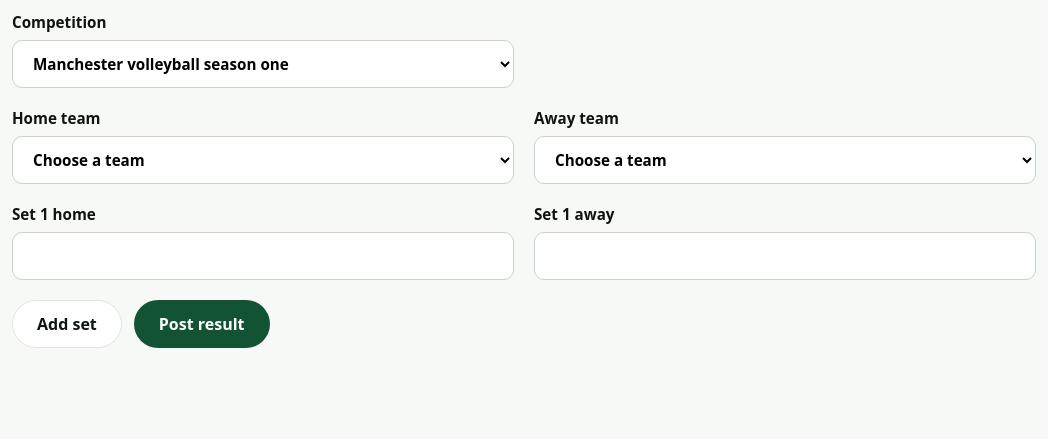
VolleyballResultForm › reports a tied set without clearing the entered scores
Select "Spike" in the dropdown labelled "Home team". click: point(263, 160)
box: top-left (12, 136), bottom-right (514, 184)
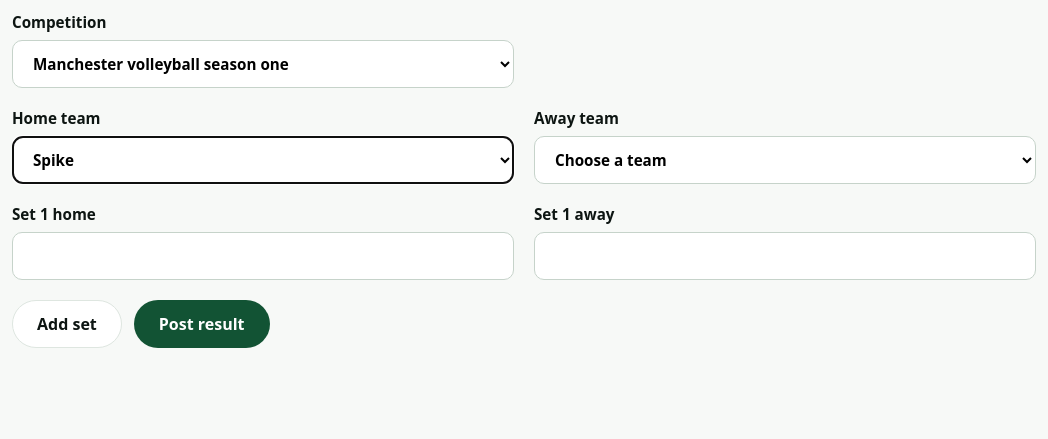
Select "Block" in the dropdown labelled "Away team". click: point(785, 160)
box: top-left (534, 136), bottom-right (1036, 184)
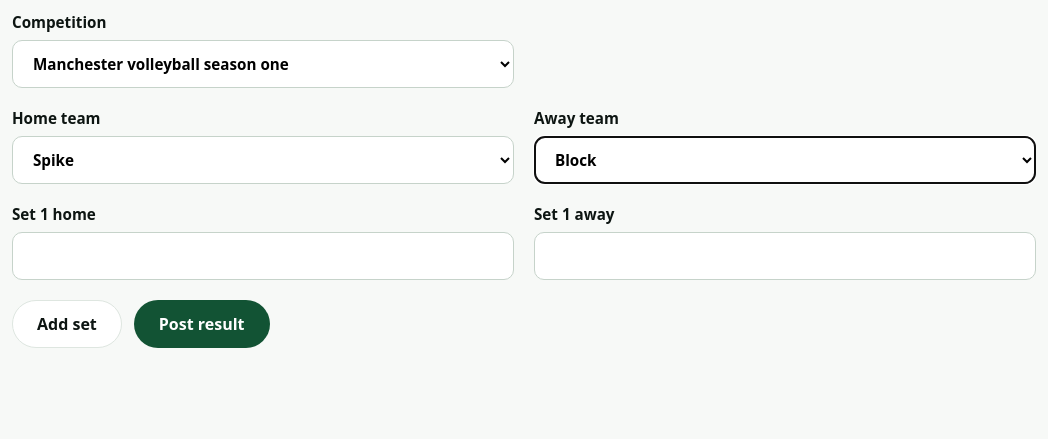
Type "25" into the number field labelled "Set 1 home". click: point(263, 256)
box: top-left (12, 232), bottom-right (514, 280)
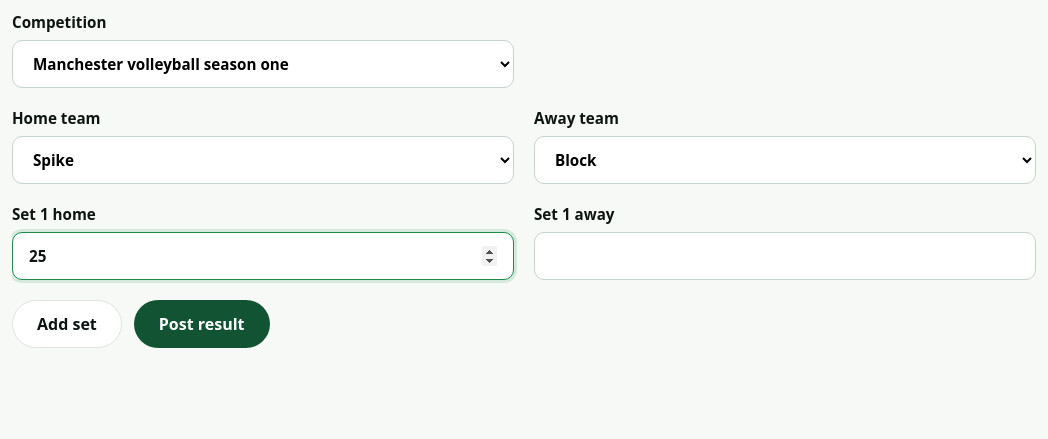
Type "25" into the number field labelled "Set 1 away". click: point(785, 256)
box: top-left (534, 232), bottom-right (1036, 280)
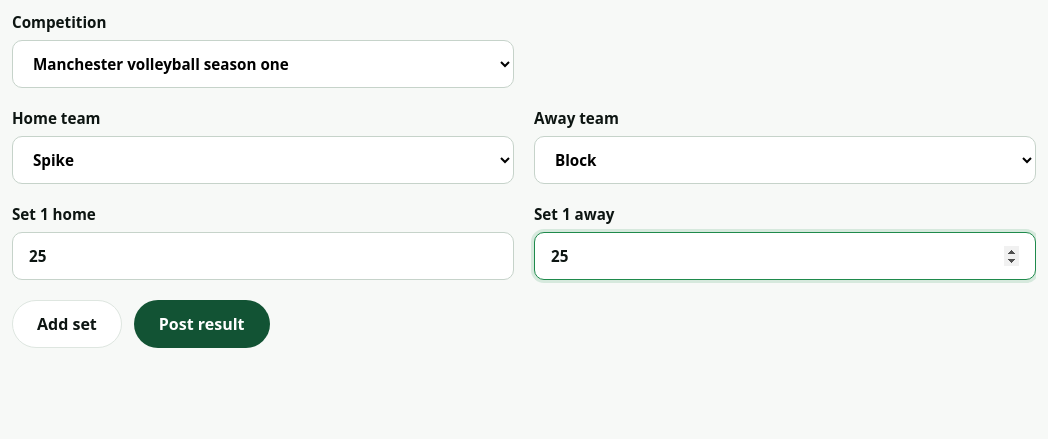
Click the button "Post result". click: point(202, 324)
box: top-left (134, 300), bottom-right (270, 348)
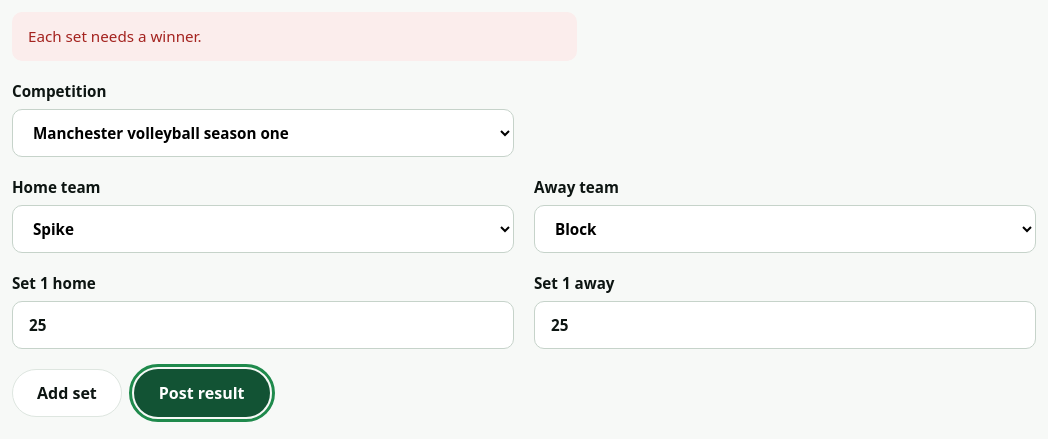
Result: the text "Each set needs a winner." is shown at top-left (12, 12), bottom-right (577, 61)
